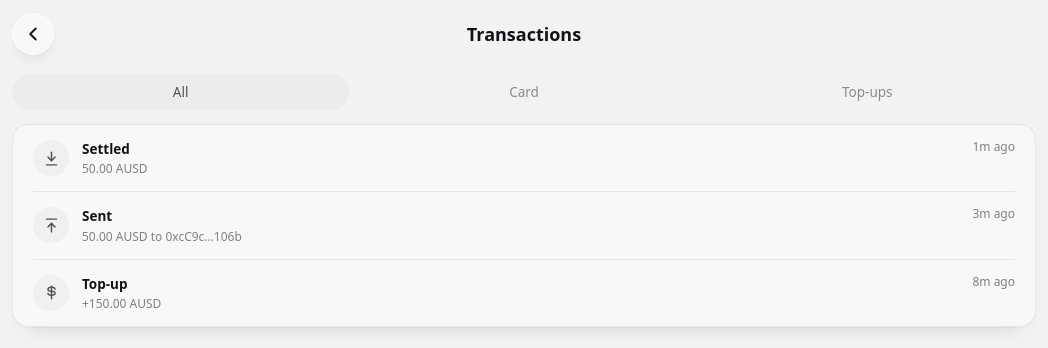
Card and Top-ups split the rows by what they were
Click the button "Top-ups".
click(867, 92)  # box 699,74 -> 1036,110
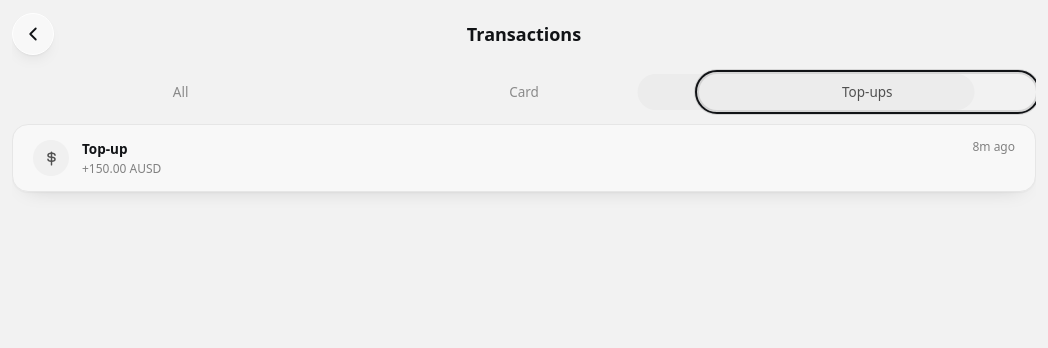
Expected: the text "Top-up" is shown, 82,139 -> 128,159
Expected: the link "Sent" is gone
Click the button "Card".
click(524, 92)  # box 355,74 -> 693,110
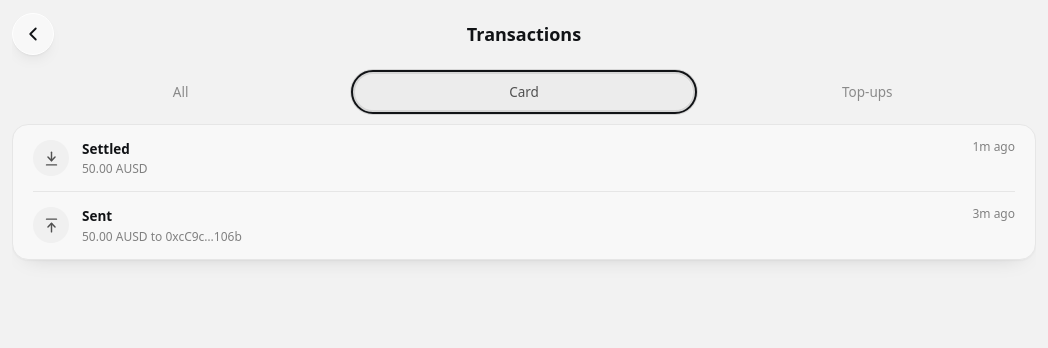
Expected: the text "Sent" is shown, 82,206 -> 112,227
